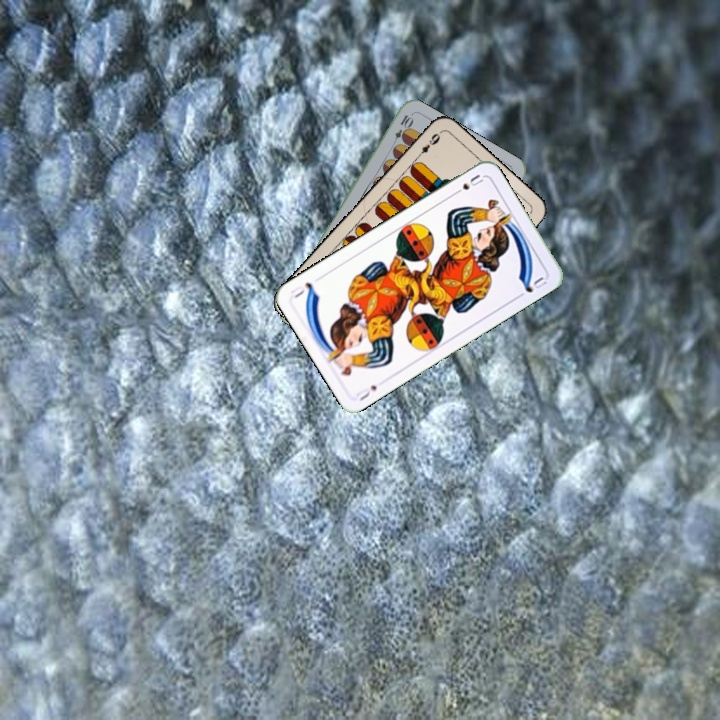E10: (388, 111, 415, 149)
E9: (412, 128, 443, 161)
SU: (449, 170, 486, 198), (352, 381, 379, 404)
